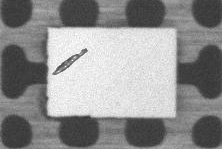DIE_INK: (76, 30, 136, 51)
